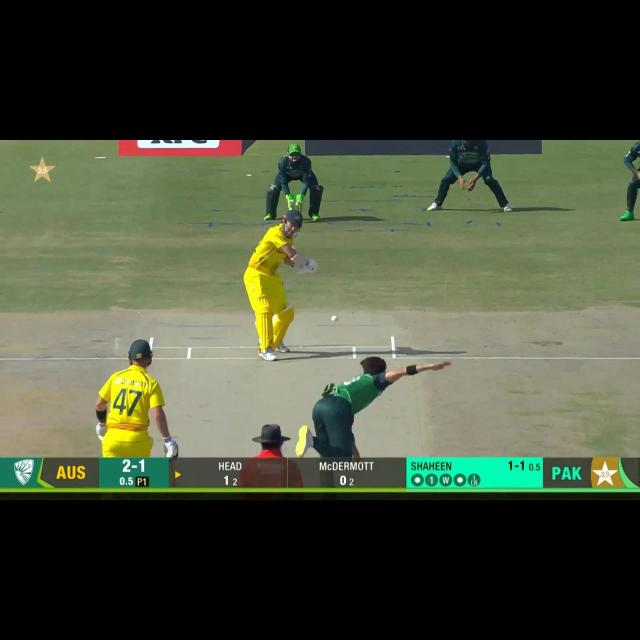bat: (292, 262, 306, 272)
